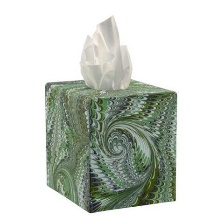plastic_box: (38, 72, 185, 217)
tissue: (74, 10, 137, 94)
